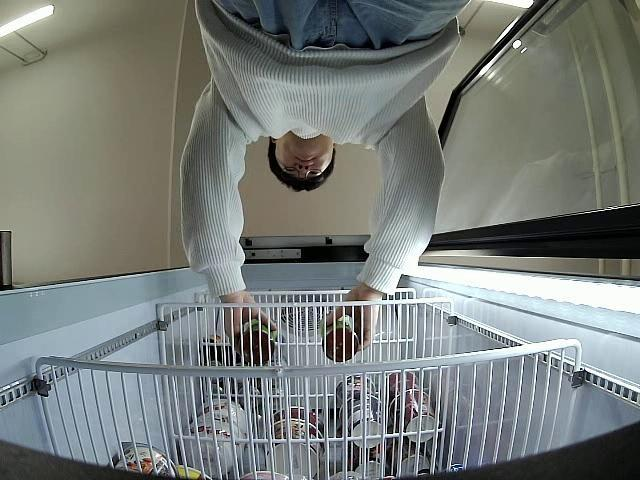19_17cha: (320, 310, 359, 362), (236, 320, 276, 362)
